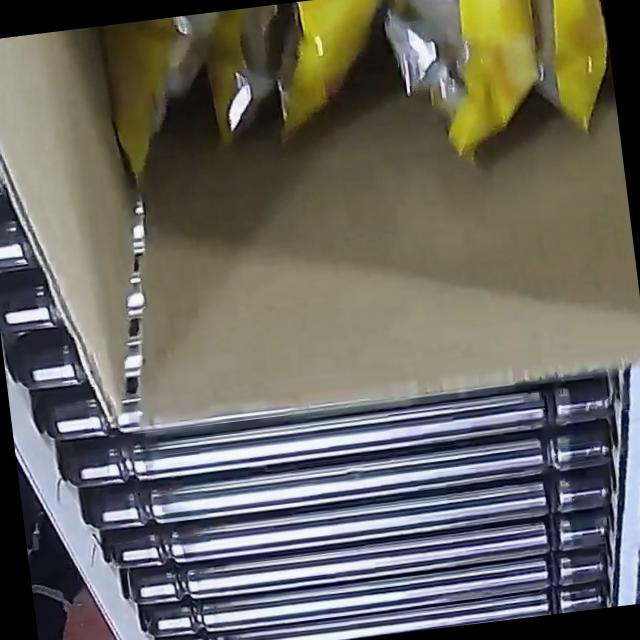salted: (96, 0, 622, 219)
